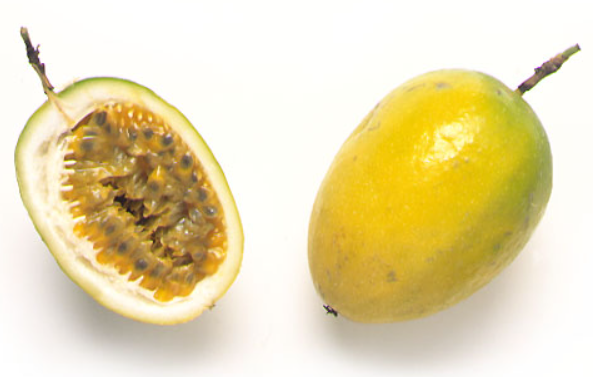maracuya: (300, 61, 562, 339)
